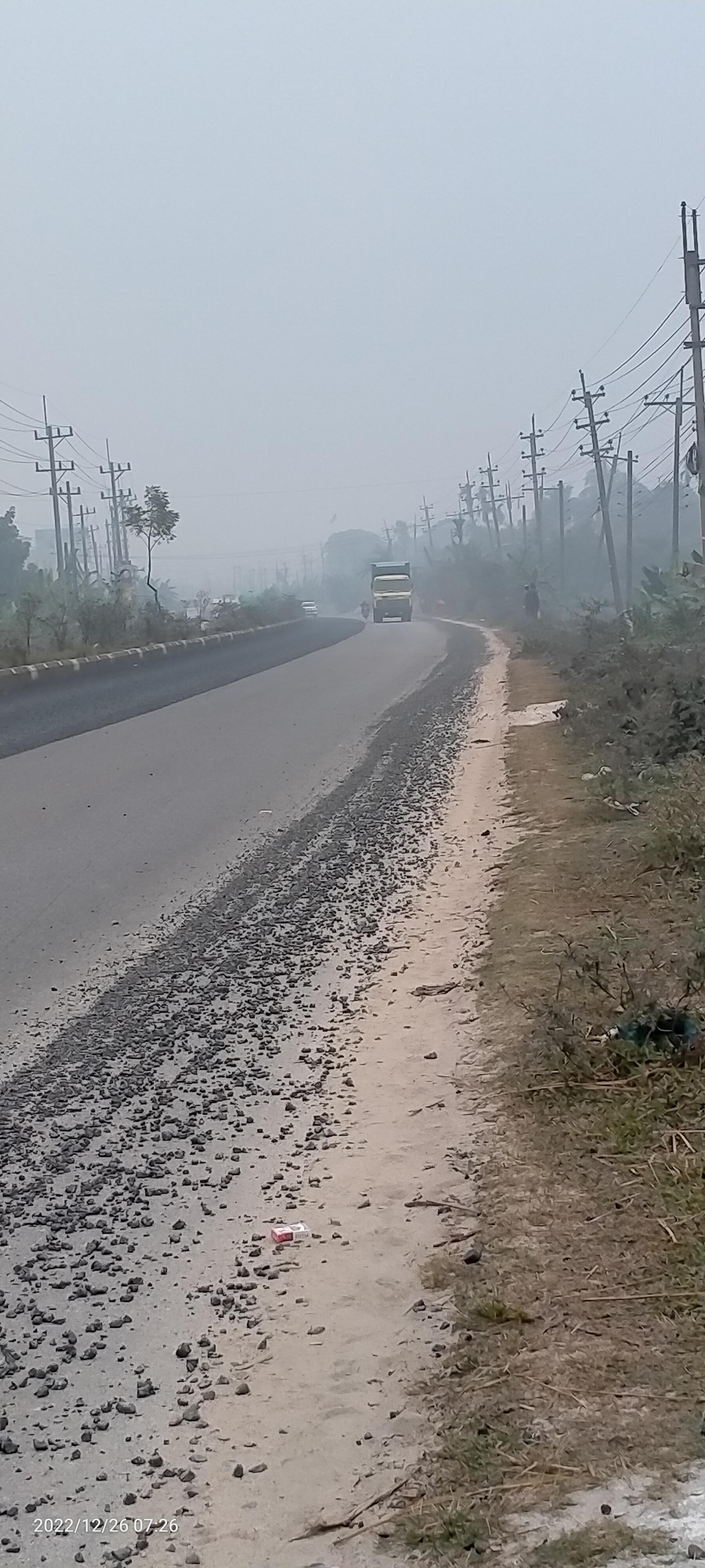Bike: (357, 596, 374, 624)
Car: (295, 597, 331, 624)
Truck: (371, 559, 415, 625)
